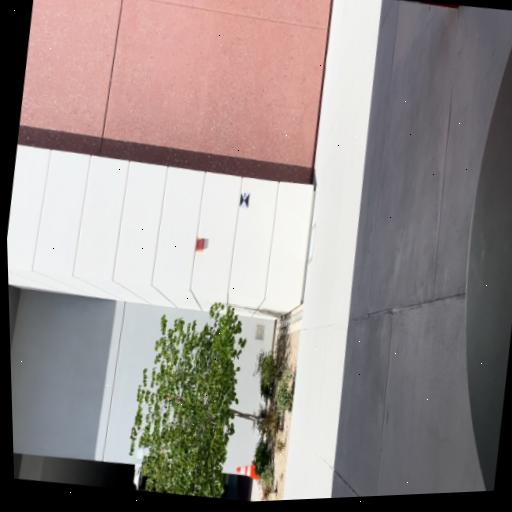target9: (238, 191, 250, 209)
